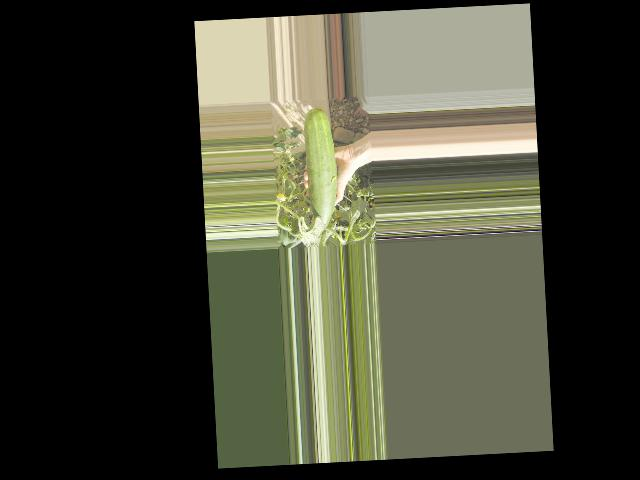cucumber: (302, 106, 339, 230)
